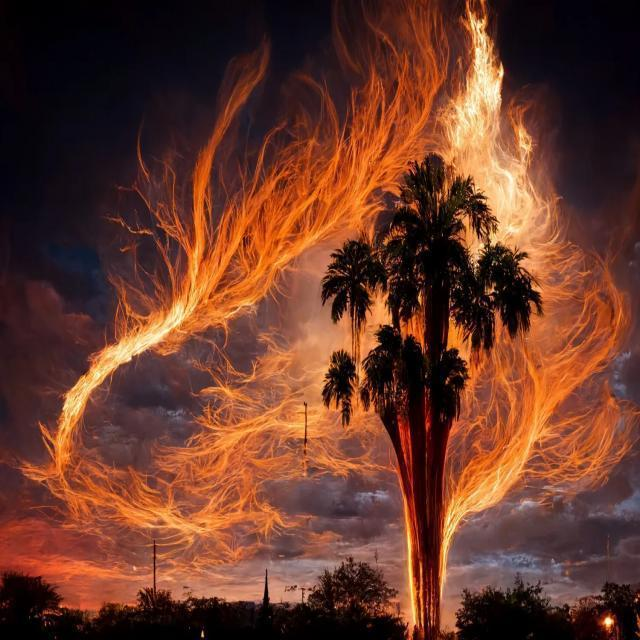tree: (324, 150, 498, 640), (310, 556, 394, 624)
